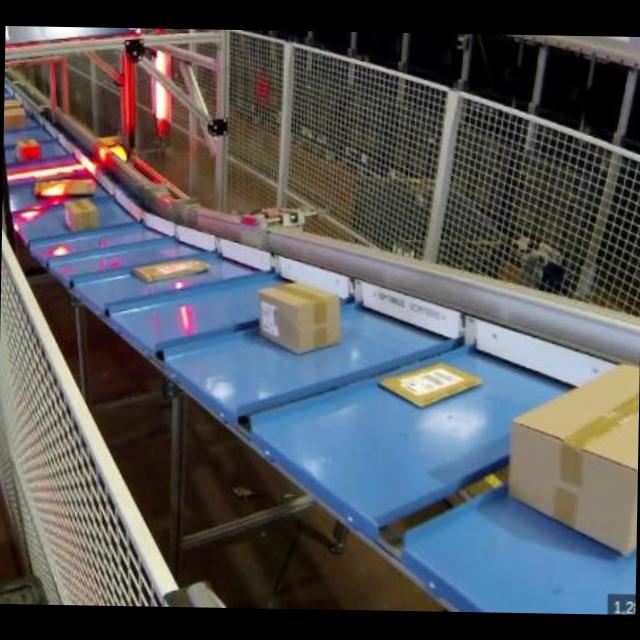box: (508, 365, 639, 553), (258, 283, 339, 352), (65, 199, 99, 229), (37, 178, 95, 195), (17, 139, 40, 159)
mailer: (381, 363, 480, 407), (133, 259, 208, 282)
